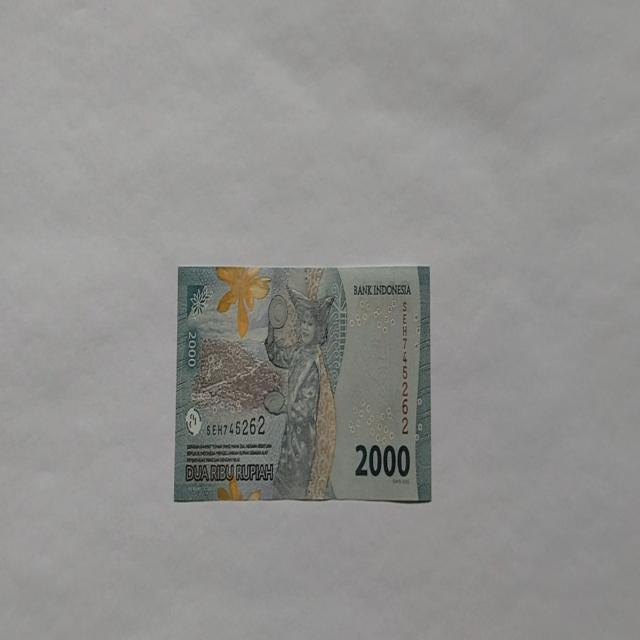dua ribu rupiah: (174, 263, 432, 503), (262, 284, 338, 500)
